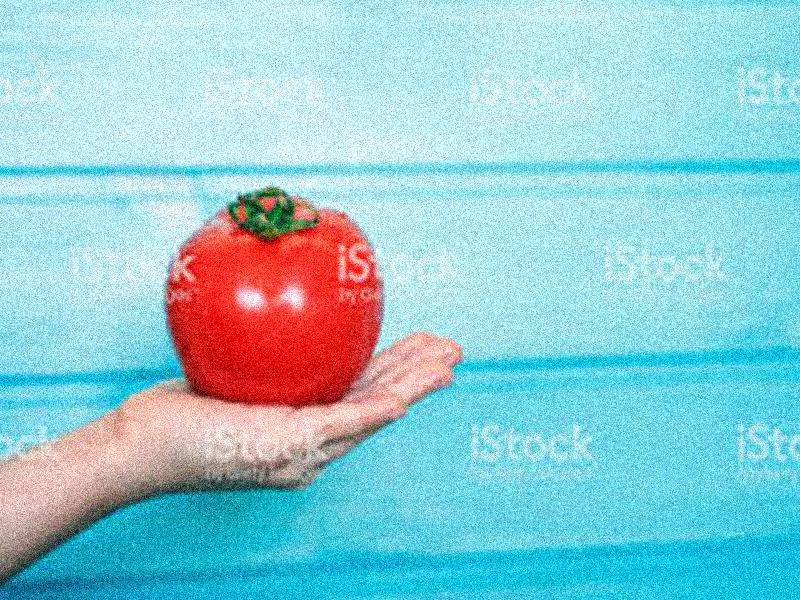Tomato: (169, 190, 384, 407)
